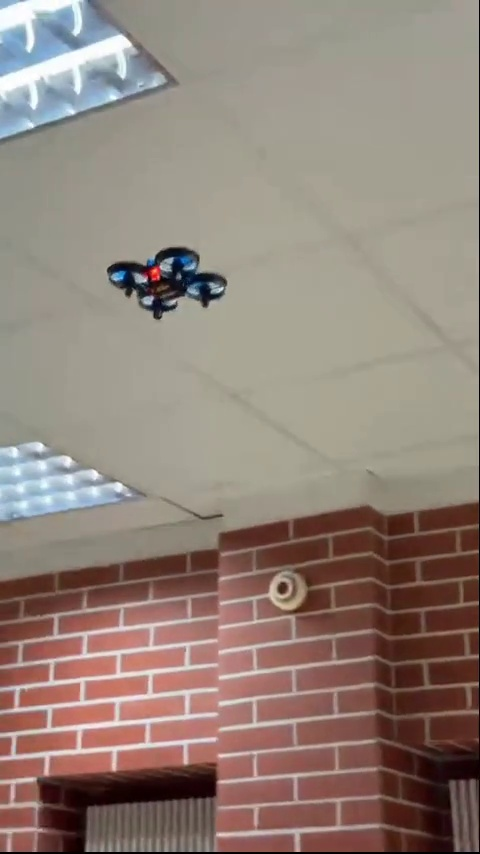drone: (105, 247, 225, 323)
